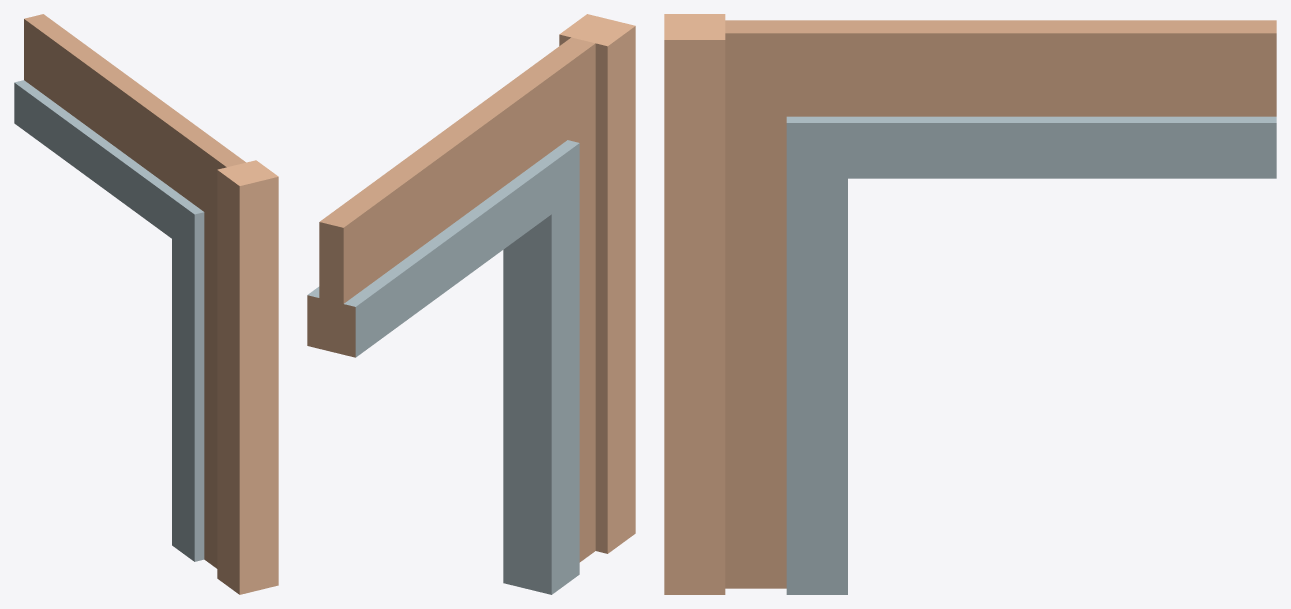
The model's file is wallWoodDoorwaySquareWide.glb.
3 views of the same model, side by side, from view 1: azimuth 30°, elevation 25°; view 2: azimuth 150°, elevation 25°; view 3: azimuth 270°, elevation 25° (orthographic). The views are drawn at different scales.
Parts seen in each view (by area): view 1: wallWoodDoorwaySquareWide; view 2: wallWoodDoorwaySquareWide; view 3: wallWoodDoorwaySquareWide.
Part boxes in pixels (x1,y1,x2,y2): wallWoodDoorwaySquareWide: (14, 14, 278, 594); wallWoodDoorwaySquareWide: (307, 14, 635, 594); wallWoodDoorwaySquareWide: (664, 14, 1276, 594).
Bounding box in the file's own units: 0.1 × 1 × 1.
